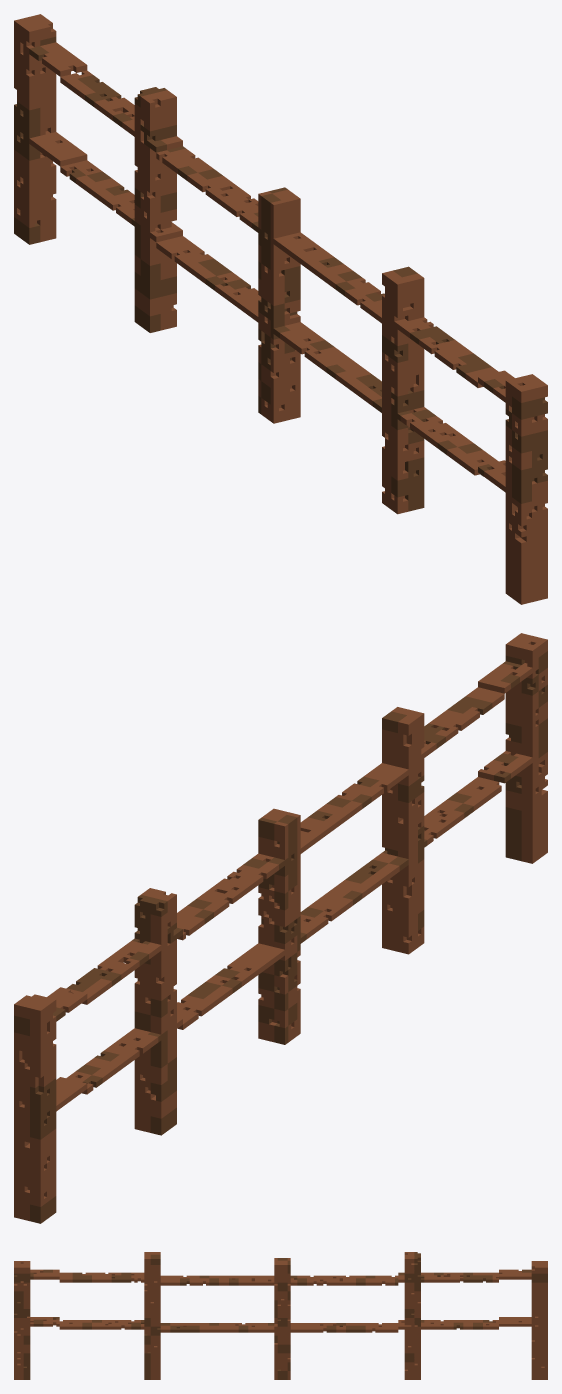
The model's file is fence_backwoods_1.obj.
3 renders of one model, top to bottom at view 1: azimuth 30°, elevation 25°; view 2: azimuth 150°, elevation 25°; view 3: azimuth 270°, elevation 25°, orthographic. The views are drawn at different scales.
Bounding box in the file's own units: 0.125 × 1.02 × 4.1.
1 material, 1 textured.
